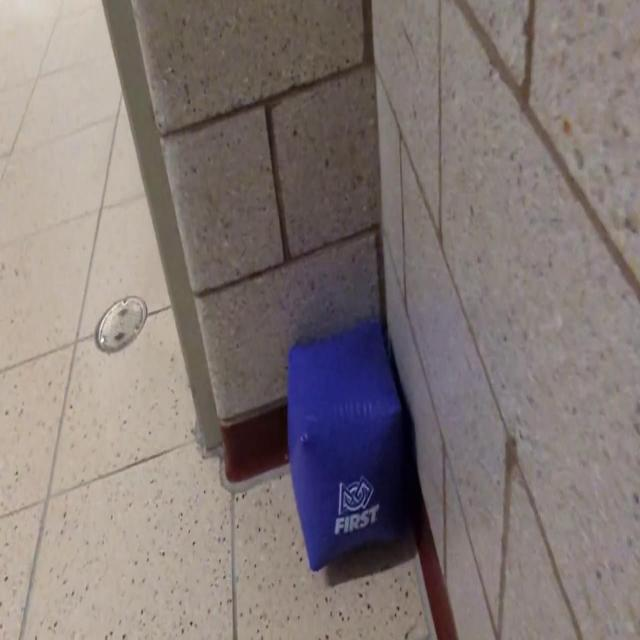frc_cube: (287, 331, 404, 573)
